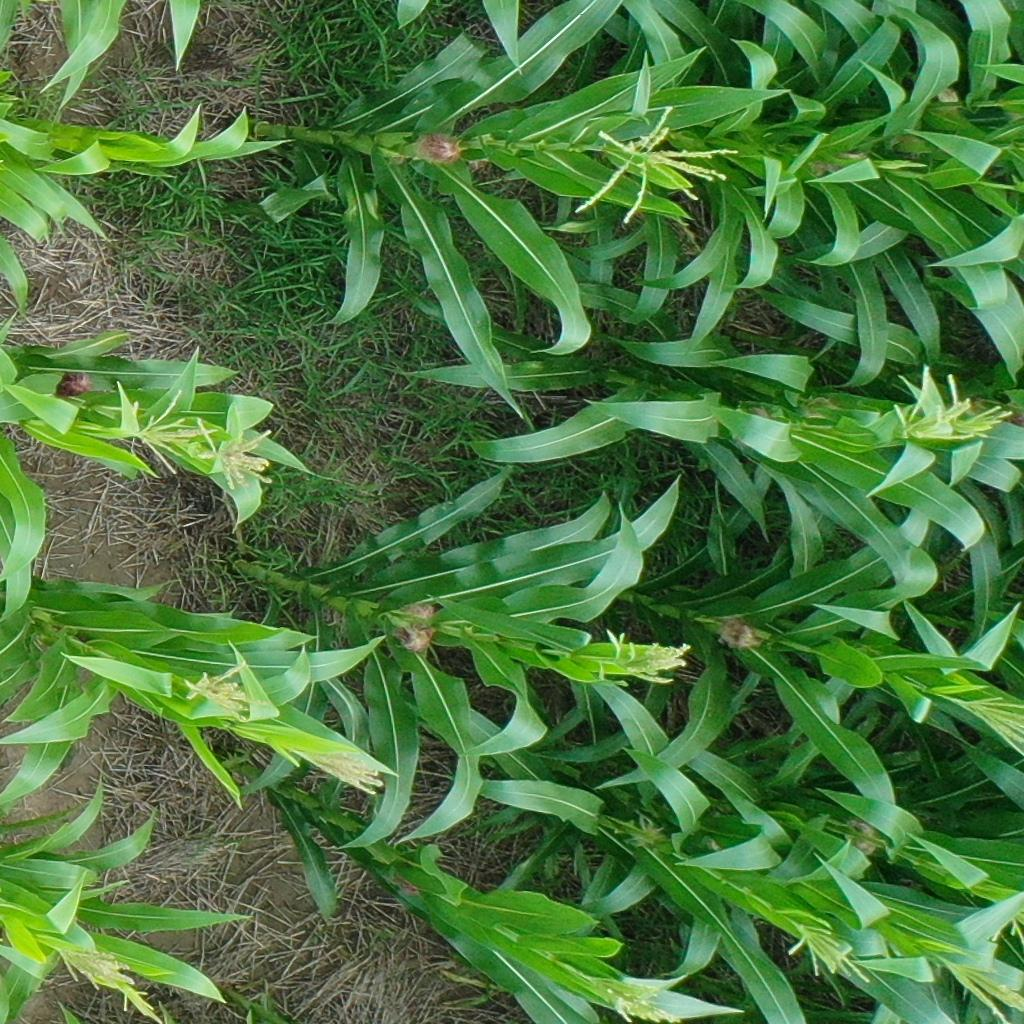Tassel: (574, 102, 742, 221), (884, 368, 1014, 451), (285, 729, 395, 809), (130, 384, 214, 476), (178, 654, 276, 729), (196, 413, 282, 494), (46, 936, 143, 1005), (607, 629, 699, 694), (946, 684, 1024, 754), (795, 919, 868, 985), (944, 955, 1024, 1014), (583, 975, 662, 1020), (981, 881, 1024, 942)
